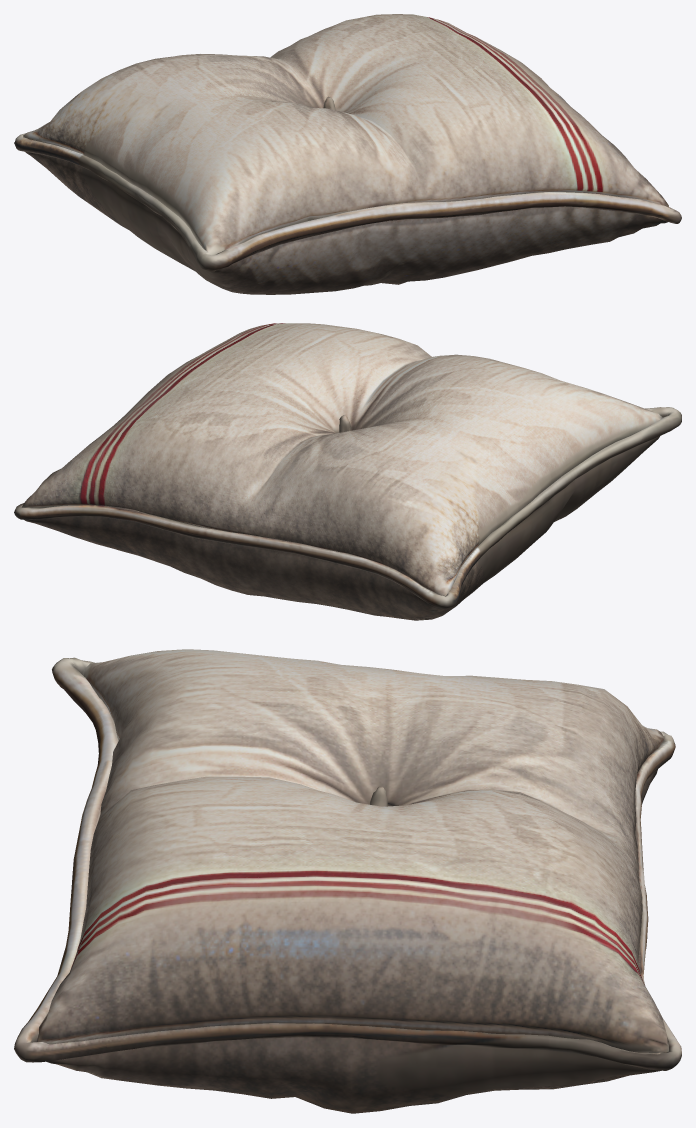
The model's file is act1_kit_v1_linen_pillow.glb.
3 views of the same model, one above another, from view 1: azimuth 30°, elevation 25°; view 2: azimuth 150°, elevation 25°; view 3: azimuth 270°, elevation 25° (orthographic). The views are drawn at different scales.
Parts seen in each view (by area): view 1: act1_kit_v1_linen_pillow; view 2: act1_kit_v1_linen_pillow; view 3: act1_kit_v1_linen_pillow.
Boxes of the visible parts, x1,y1,x2,y2 form: act1_kit_v1_linen_pillow: (14, 14, 681, 294); act1_kit_v1_linen_pillow: (14, 323, 681, 620); act1_kit_v1_linen_pillow: (14, 649, 681, 1113).
Bounding box in the file's own units: 1 × 0.3576 × 0.8648.
1 material, 1 textured.
